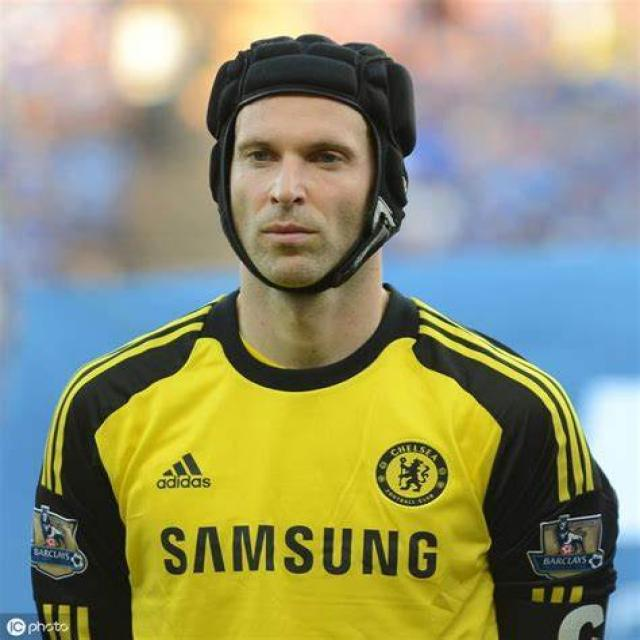illegal_helmet: (203, 26, 420, 302)
